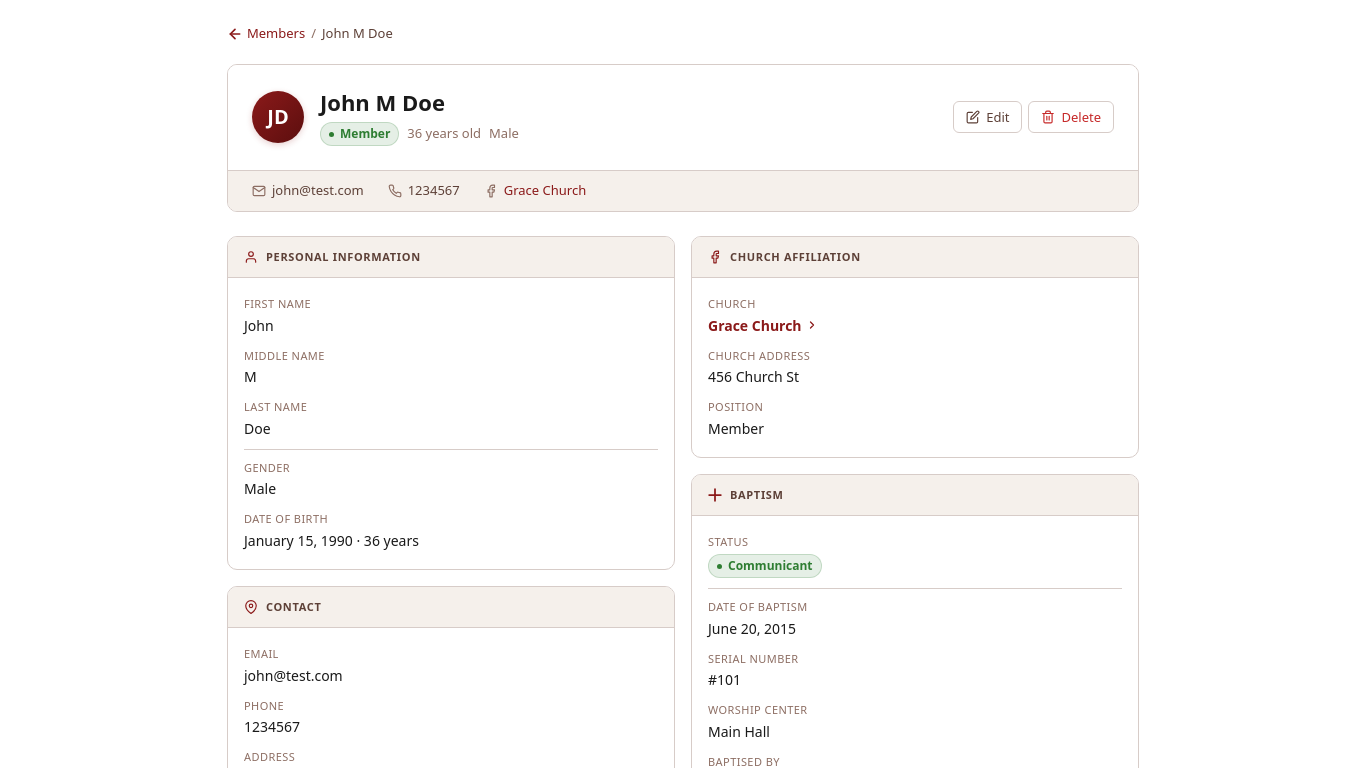
Test: PersonDetail › closes edit form via close button
What coordinates should you click on to do the following:
click the button "Edit"
I would click on:
 (988, 117)
Its box is [953, 101, 1022, 133].
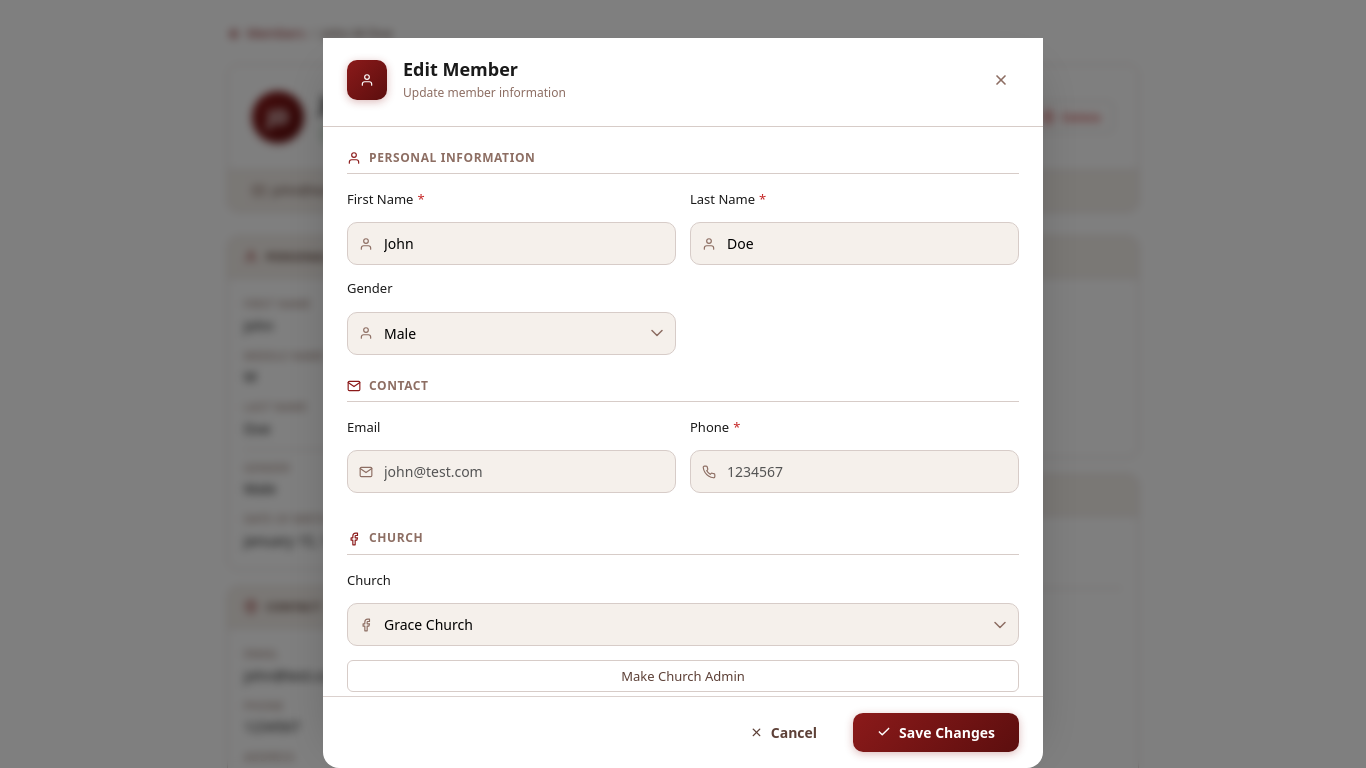
What coordinates should you click on to do the following:
click the button with class "mf-close"
I would click on:
 (1001, 80)
Its box is [983, 62, 1019, 98].
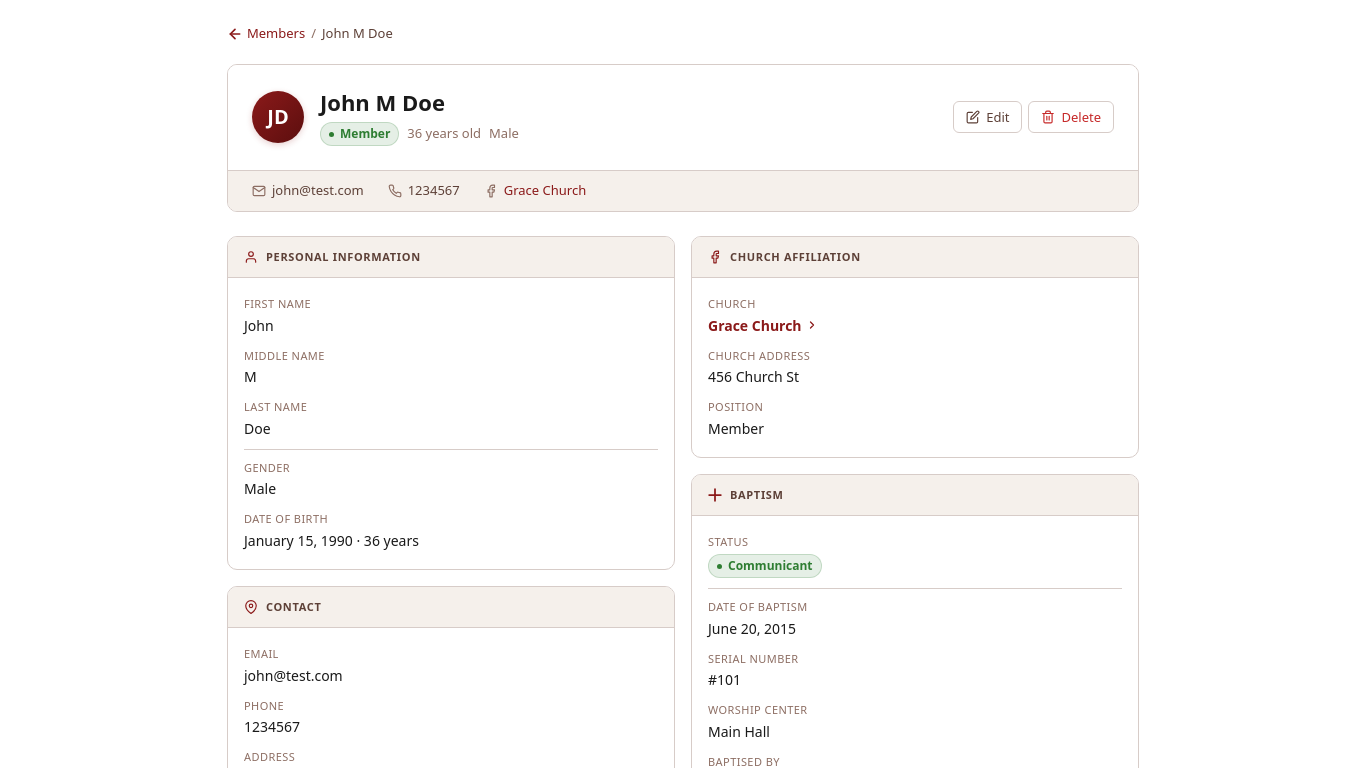
Result: the heading "Edit Member" is gone
